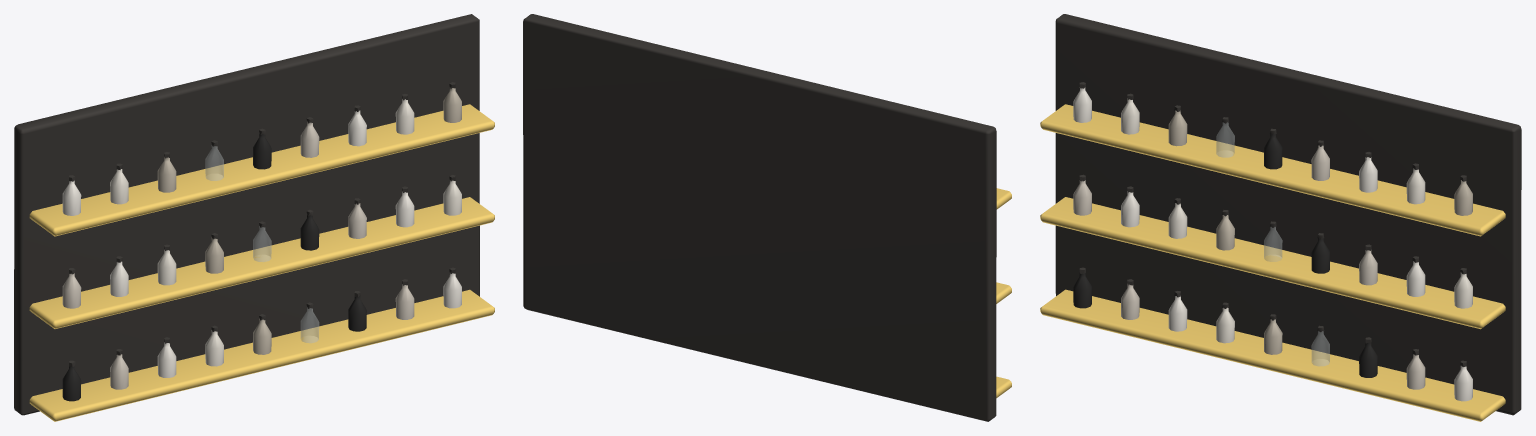
File: nail_polish_rack.glb
3 renders of one model, left to right at view 1: azimuth 30°, elevation 25°; view 2: azimuth 150°, elevation 25°; view 3: azimuth 330°, elevation 25°, orthographic.
Visible parts, largest first — view 1: nail_polish_rack; view 2: nail_polish_rack; view 3: nail_polish_rack.
Boxes of the visible parts, x1,y1,x2,y2 form: nail_polish_rack: [14, 14, 494, 421]; nail_polish_rack: [523, 14, 1011, 421]; nail_polish_rack: [1040, 14, 1521, 421].
Size of the model in its own units: 1.04 by 0.6187 by 0.127.
